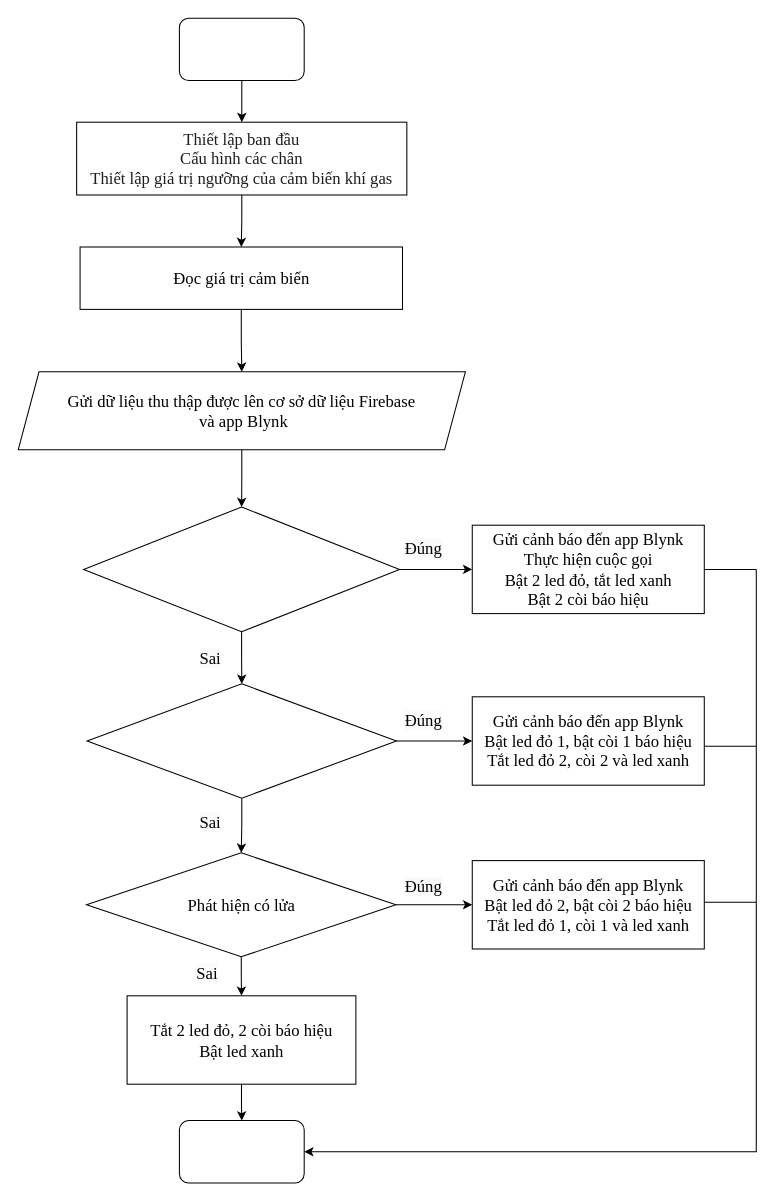
Some shapes in this 783 by 1201 pixel diagram are drawn without their labels. Here are the shapes that lost their labels. From the top down, the centre of each, then its label:
point 241,49: Bắt đầu
point 241,569: Vượt mức ngưỡng của cảm biến khí gas và phát hiện có lửa
point 241,740: Vượt mức ngưỡng của cảm biến khí gas
point 241,1151: Kết thúc
